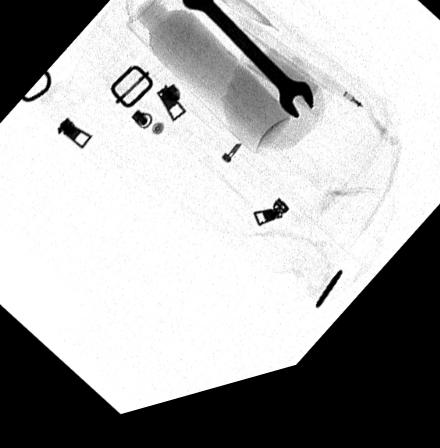Wrench: (264, 71, 315, 242)
